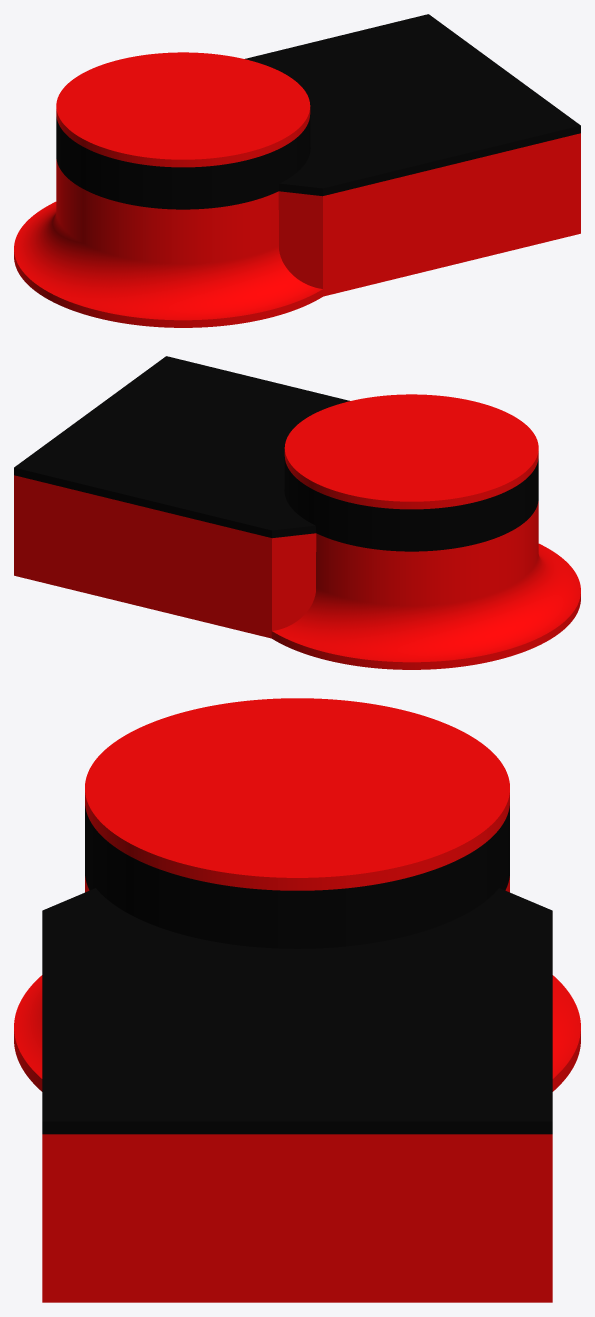
3 views of the same model, one above another, from view 1: azimuth 30°, elevation 25°; view 2: azimuth 150°, elevation 25°; view 3: azimuth 270°, elevation 25° (orthographic). The views are drawn at different scales.
Parts seen in each view (by area): view 1: Compound, Compound001; view 2: Compound, Compound001; view 3: Compound, Compound001.
Boxes of the visible parts, x1,y1,x2,y2 form: Compound: [14, 52, 580, 327]; Compound001: [56, 14, 580, 209]; Compound: [14, 394, 580, 669]; Compound001: [14, 356, 538, 551]; Compound: [14, 698, 580, 1302]; Compound001: [42, 806, 552, 1134].
Bounding box in the file's own units: 319 × 200 × 98.
